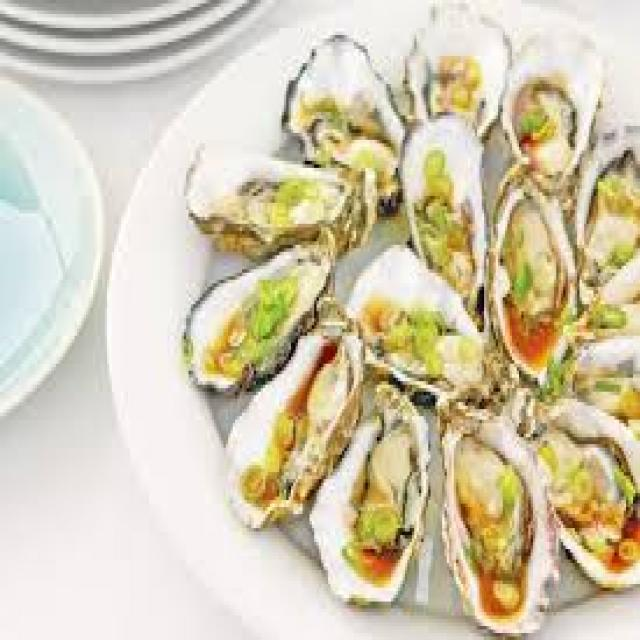Oyster-Open: (474, 360, 640, 571), (208, 316, 380, 503), (418, 389, 554, 621), (241, 33, 435, 189), (306, 381, 434, 603), (344, 240, 504, 411), (176, 150, 401, 259), (155, 238, 331, 375), (479, 167, 593, 352), (385, 112, 503, 274), (400, 11, 520, 135), (488, 26, 591, 168), (572, 136, 640, 263)
